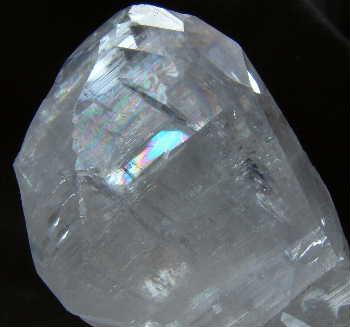calcite: (14, 4, 350, 326)
